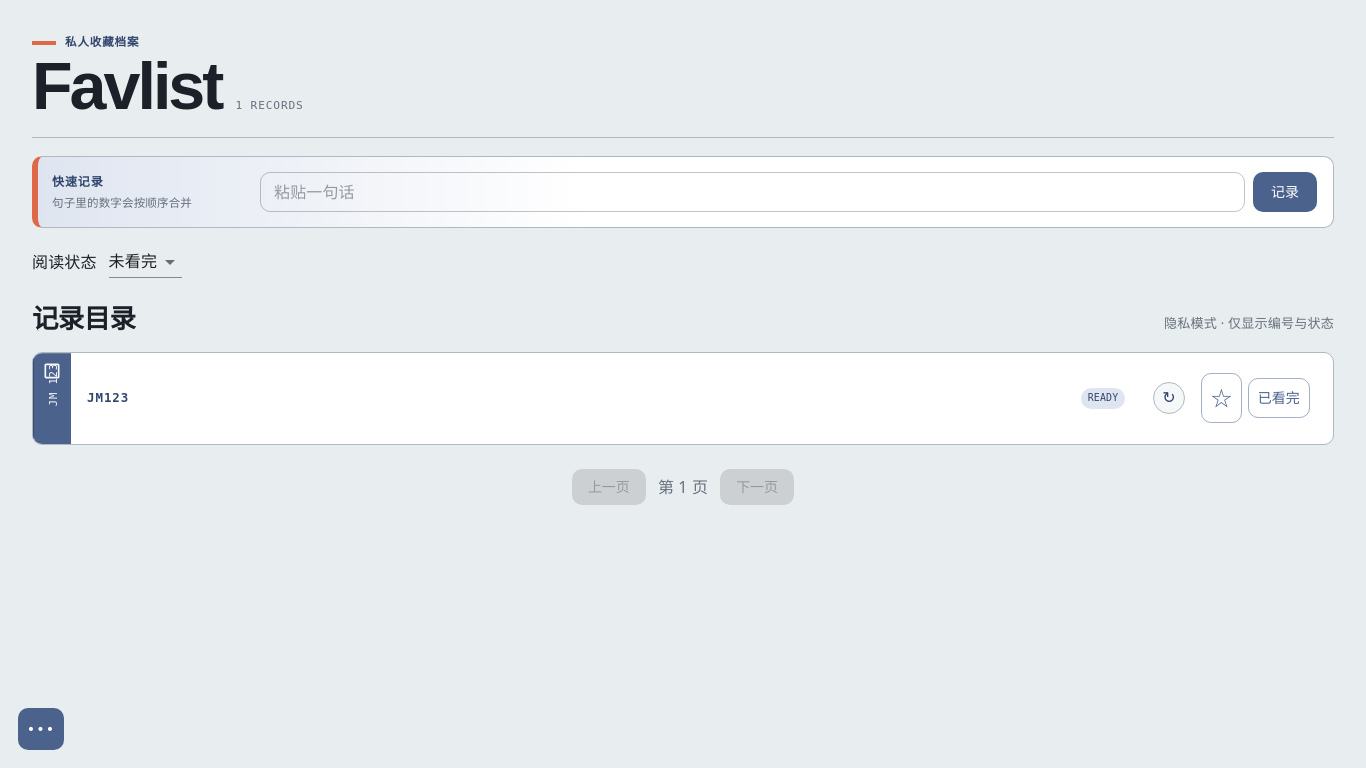
Test: personal status and floating menu › blocks repeat submissions and preserves flags on failure
The width and height of the screenshot is (1366, 768).
Step 1. Click the button named "标星 JM123" → (1221, 398), box x1=1201 y1=373 x2=1242 y2=424
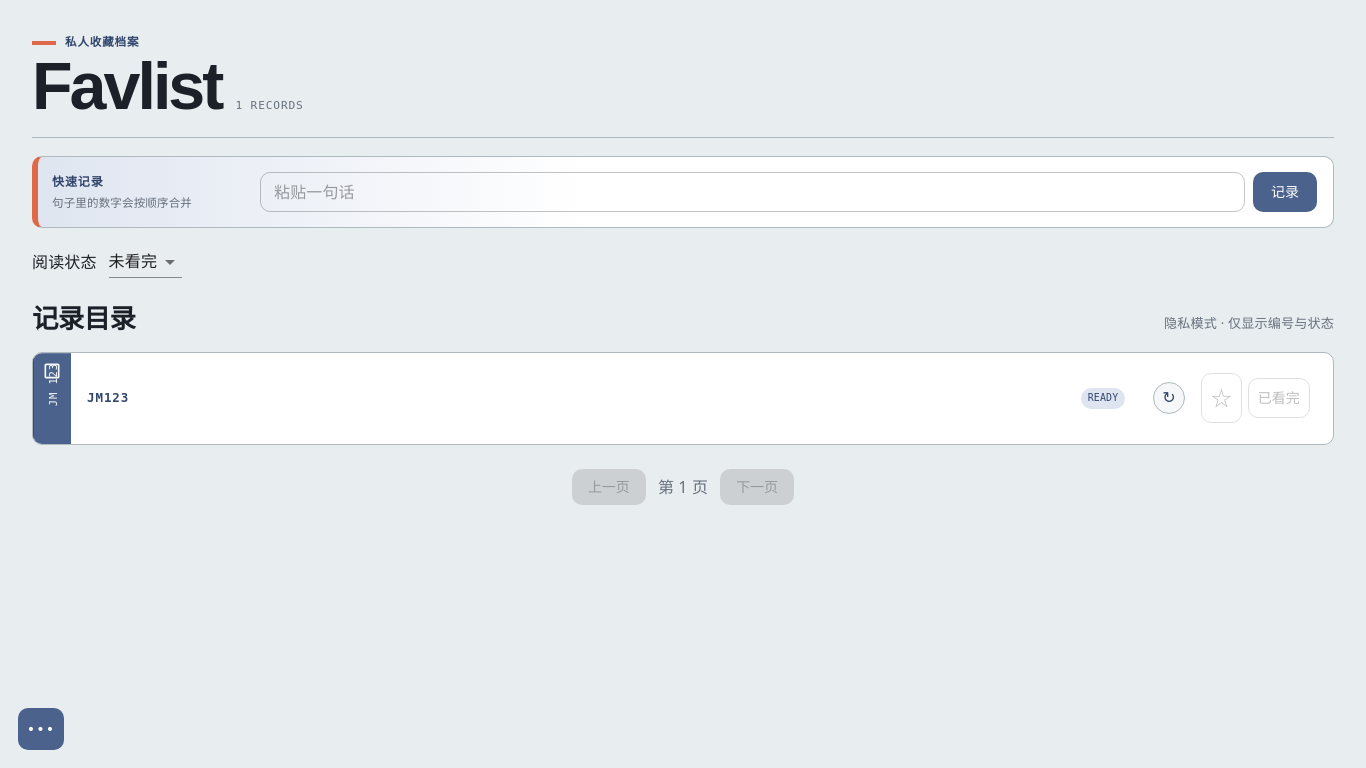
Result: the button named "标星 JM123" is disabled
Result: the button with aria-label "已看完 JM123" is disabled at x1=1248 y1=378 x2=1310 y2=418
Step 2. Click the button named "标星 JM123" → (1221, 398), box x1=1201 y1=373 x2=1242 y2=424
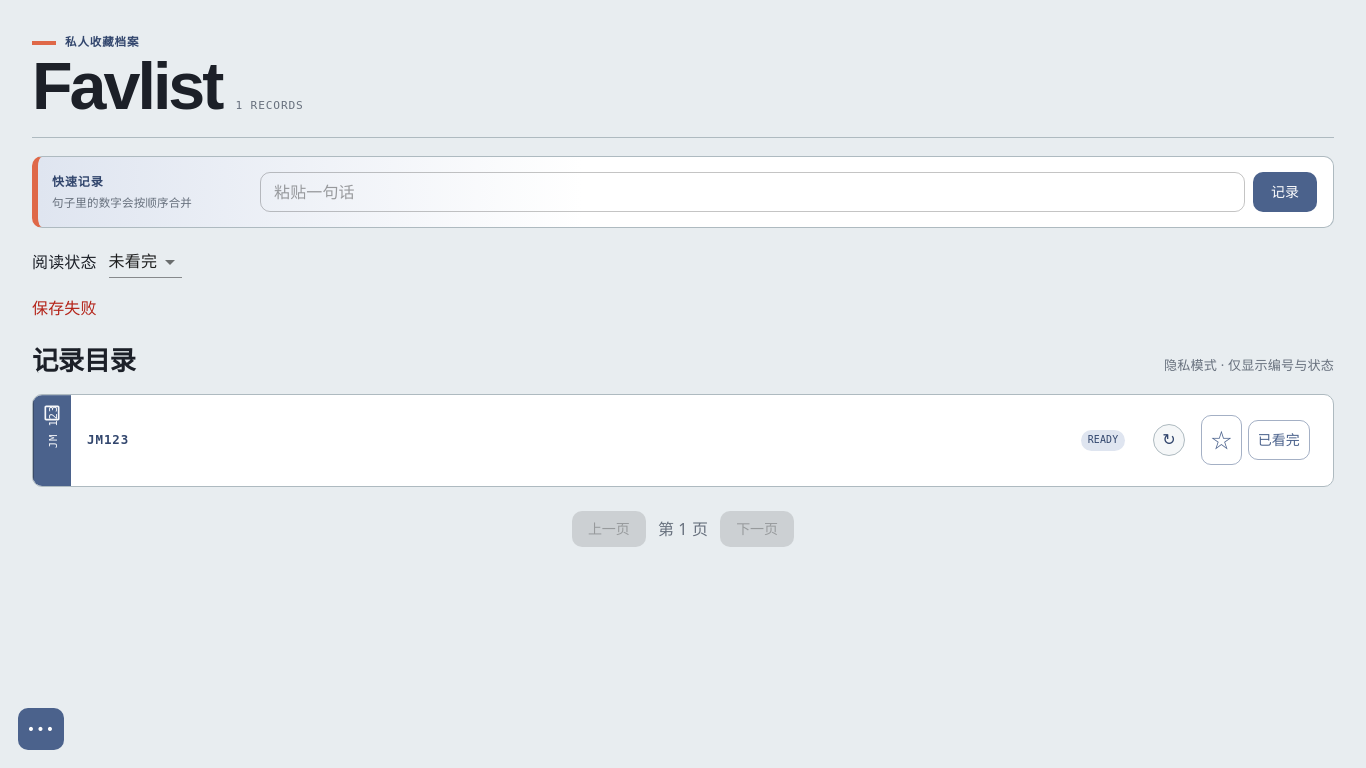
Result: the message reads "保存失败" at x1=32 y1=297 x2=97 y2=319
Result: the button named "标星 JM123" is enabled at x1=1201 y1=415 x2=1242 y2=466
